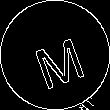M_N: (24, 24, 86, 86)
